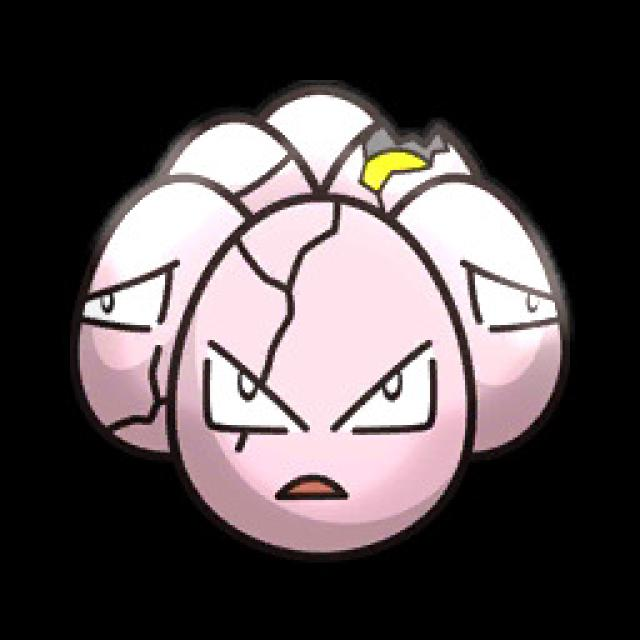Exeggcute: (61, 81, 572, 566)
